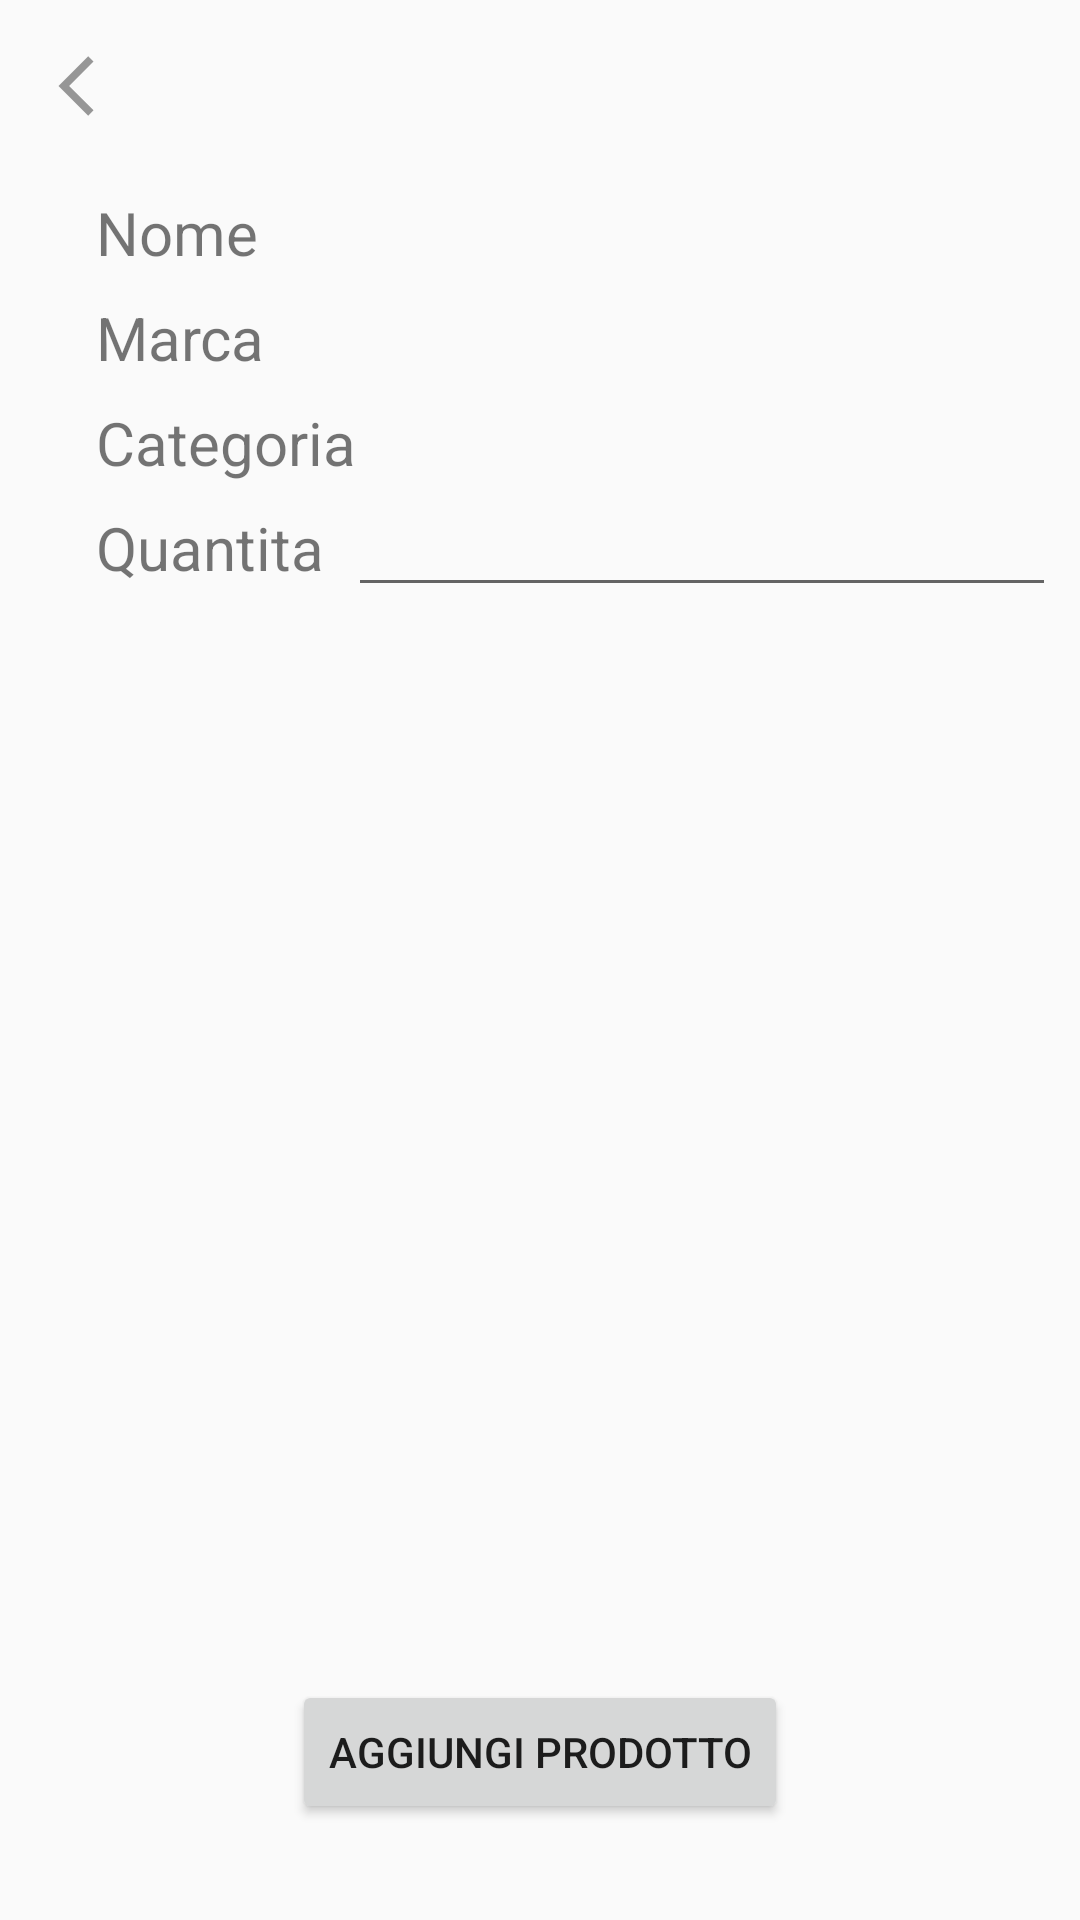

Point at icon controls on the screen. Image size 1080px×1920px, points as [x,y].
arrow back: [76,86]
